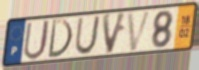8: (149, 9, 174, 49)
D: (46, 18, 74, 59)
U: (22, 19, 52, 62), (73, 15, 102, 56)
V: (101, 10, 129, 56), (126, 9, 154, 53)
